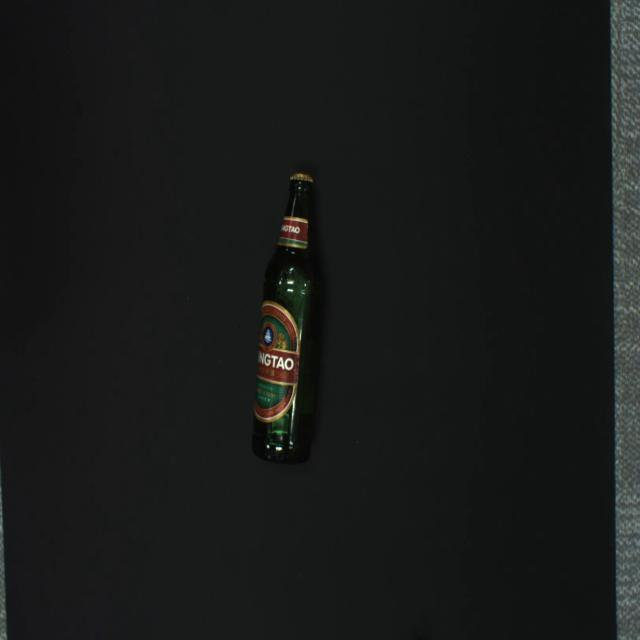beer-bottle: (251, 173, 324, 464)
